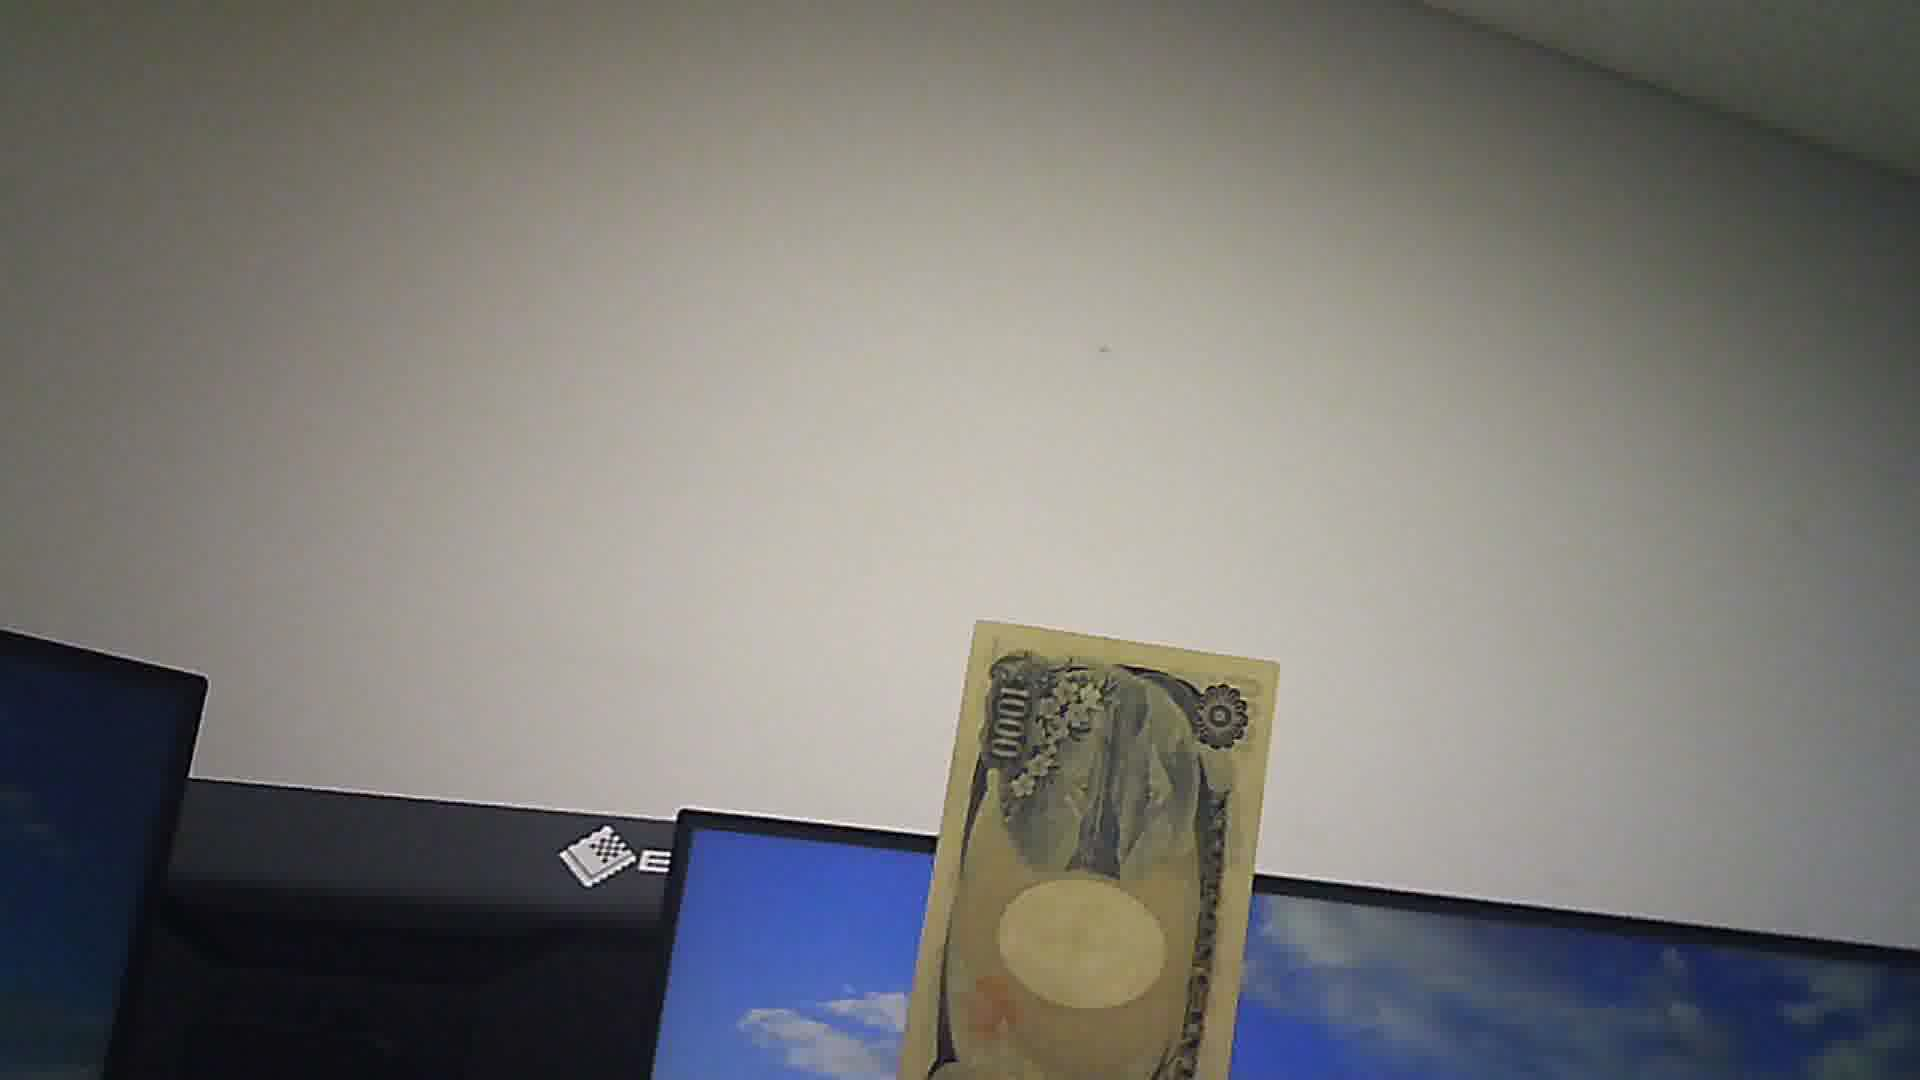1,000 Yen: (920, 615, 1270, 1079)
